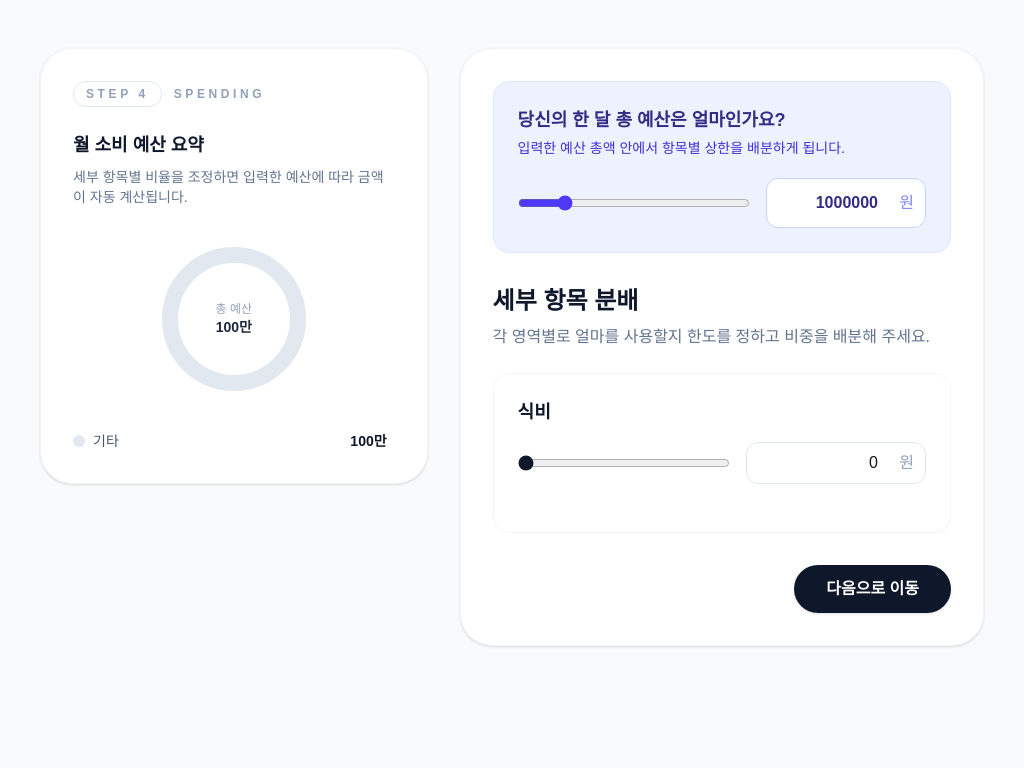
Test: Spending input flow › 총 예산 슬라이더와 입력값이 동기화된다
Set the slider named "총 예산 슬라이더" to "300000": (534, 203) [518,195,750,211]
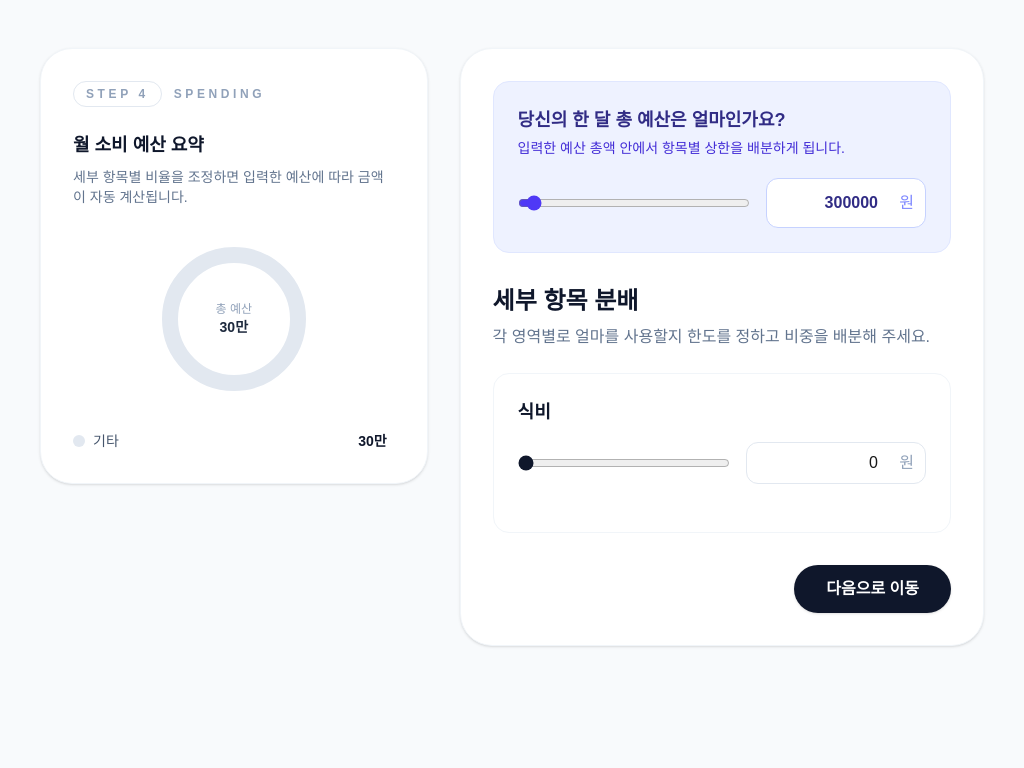
Check: the number field named "총 예산액" holds "300000", box [766,178,926,228]
